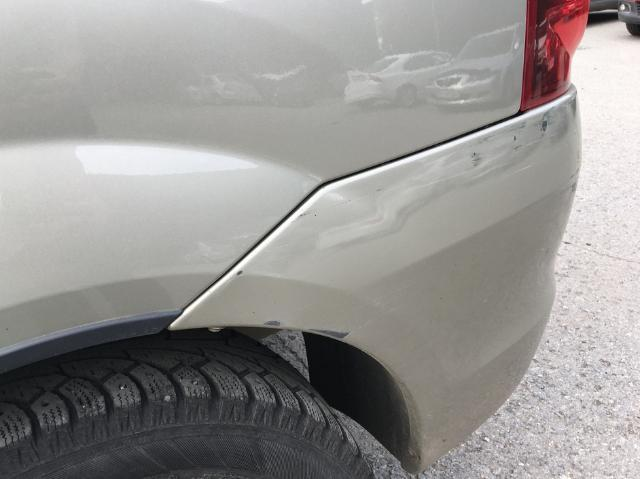Bumper: (310, 91, 606, 267)
